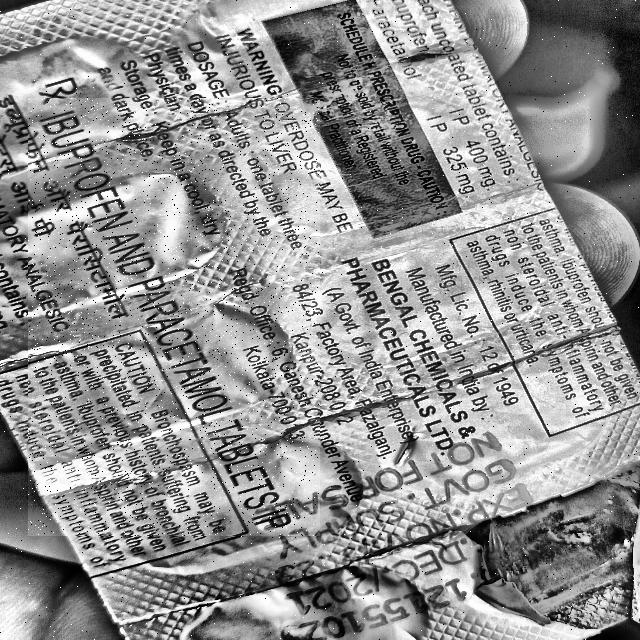IBUPROFEN AND PARACETAMOL TABLETS: (29, 99, 319, 536)
